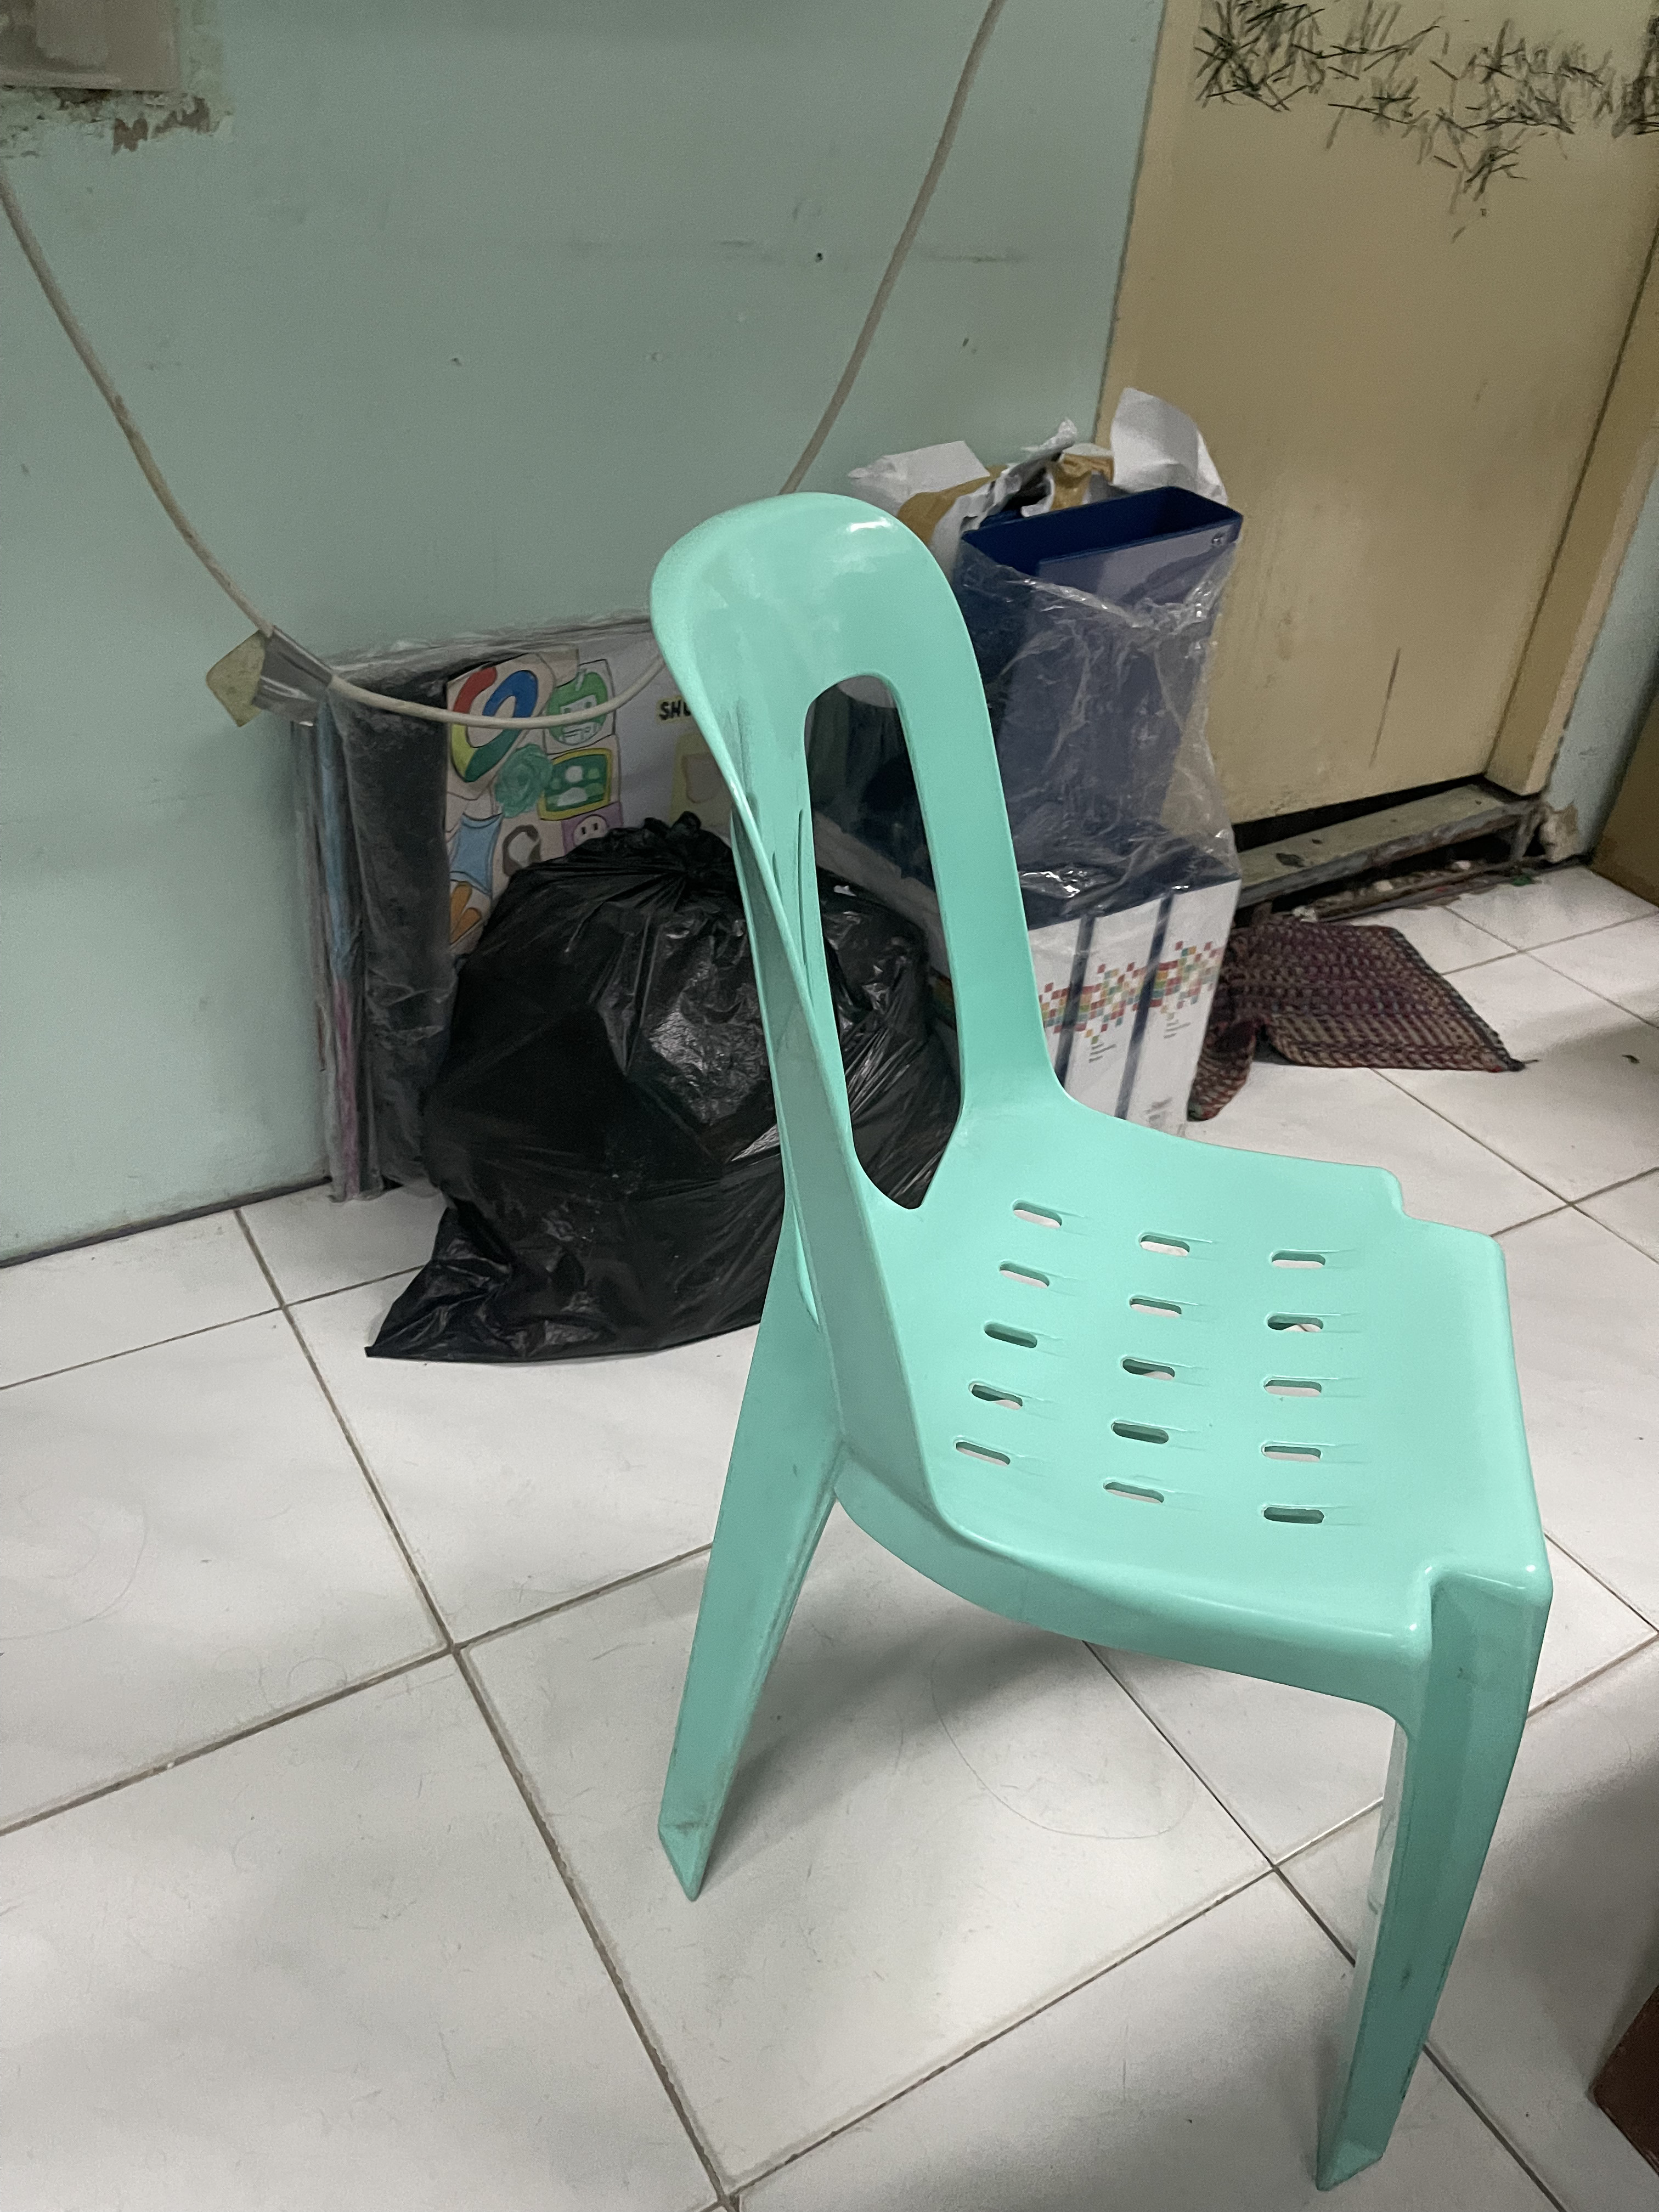chair2: (643, 474, 1553, 2212)
